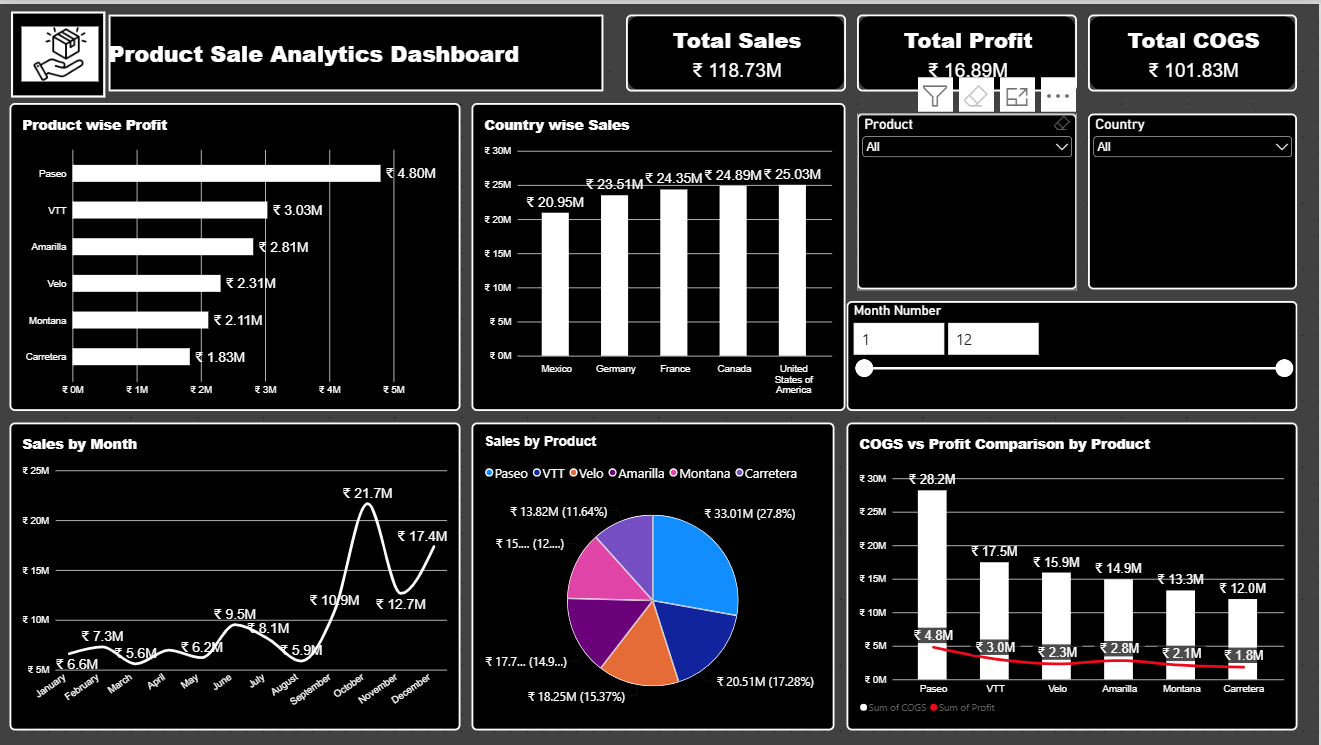

The dashboard page shown, as its layout file describes it:
{"tool":"powerbi","page":{"name":"Page 1","canvas":[1920,1080],"ordinal":0},"visuals":[{"type":"cardVisual","fields":{"Data":["Sheet1.Total Sales"]},"box":[912,16,320,112],"z":0},{"type":"cardVisual","fields":{"Data":["Sheet1.Total Profit"]},"box":[1248,16,320,112],"z":1000},{"type":"cardVisual","fields":{"Data":["Sheet1.Total Cost_of_goods_sold"]},"box":[1584,16,304,112],"z":2000},{"type":"clusteredColumnChart","title":"Country wise Sales","fields":{"Category":["Sheet1.Country"],"Y":["Sum(Sheet1. Sales)"]},"box":[688,144,544,448],"z":3000},{"type":"lineChart","fields":{"Category":["Sheet1.Date.Variation.Date Hierarchy.Month"],"Y":["Sum(Sheet1. Sales)"]},"box":[16,608,656,448],"z":4000},{"type":"clusteredBarChart","title":"Product wise Profit","fields":{"Category":["Sheet1.Product"],"Y":["Sum(Sheet1.Profit)"]},"box":[16,144,656,448],"z":5000},{"type":"pieChart","title":"Sales by Product","fields":{"Category":["Sheet1.Product"],"Y":["Sum(Sheet1. Sales)"]},"box":[688,608,528,448],"z":6000},{"type":"lineStackedColumnComboChart","fields":{"Category":["Sheet1.Product"],"Y":["Sum(Sheet1.COGS)"],"Y2":["Sum(Sheet1.Manufacturing Price)"]},"box":[1232,608,656,448],"z":7000},{"type":"slicer","fields":{"Values":["Sheet1.Product"]},"box":[1248,160,320,256],"z":8000},{"type":"slicer","fields":{"Values":["Sheet1.Country"]},"box":[1584,160,304,256],"z":9000},{"type":"slicer","fields":{"Values":["Sheet1.Month Number"]},"box":[1232,432,656,160],"z":10000},{"type":"shape","box":[18,10,137,125],"z":10250},{"type":"image","box":[32,32,112,80],"z":10500},{"type":"shape","box":[160,16,720,112],"z":12000}]}

Visuals, with their boxes in screenshot pixels (x1, y1, x2, y2), scaled from the page's 1920x1080 canvas onto the 1321x745 screenshot:
cardVisual - Sheet1.Total Sales: region(627, 11, 848, 88)
cardVisual - Sheet1.Total Profit: region(859, 11, 1079, 88)
cardVisual - Sheet1.Total Cost_of_goods_sold: region(1090, 11, 1299, 88)
"Country wise Sales" clusteredColumnChart: region(473, 99, 848, 408)
lineChart - Sheet1.Date.Variation.Date Hierarchy.Month x Sum(Sheet1. Sales): region(11, 419, 462, 728)
"Product wise Profit" clusteredBarChart: region(11, 99, 462, 408)
"Sales by Product" pieChart: region(473, 419, 837, 728)
lineStackedColumnComboChart - Sheet1.Product x Sum(Sheet1.COGS): region(848, 419, 1299, 728)
slicer - Sheet1.Product: region(859, 110, 1079, 287)
slicer - Sheet1.Country: region(1090, 110, 1299, 287)
slicer - Sheet1.Month Number: region(848, 298, 1299, 408)
shape: region(12, 7, 107, 93)
image: region(22, 22, 99, 77)
shape: region(110, 11, 605, 88)
